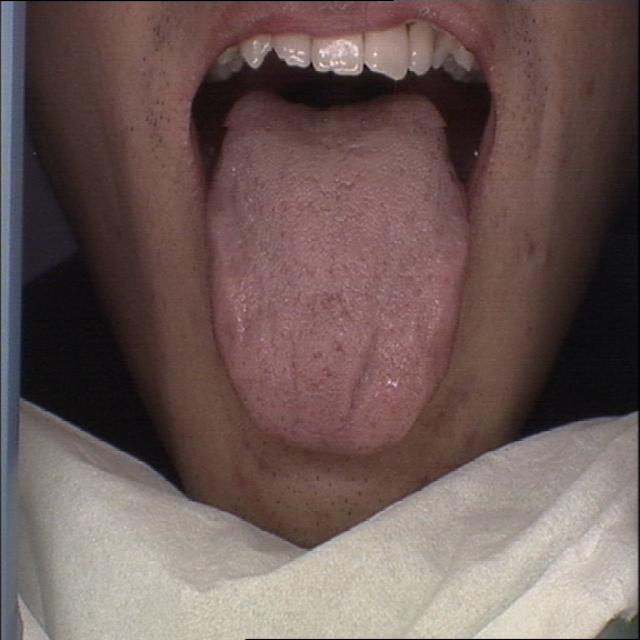baitaishe: (206, 83, 471, 455)
liewenshe: (288, 326, 378, 415)
shenquao: (262, 84, 410, 136)
